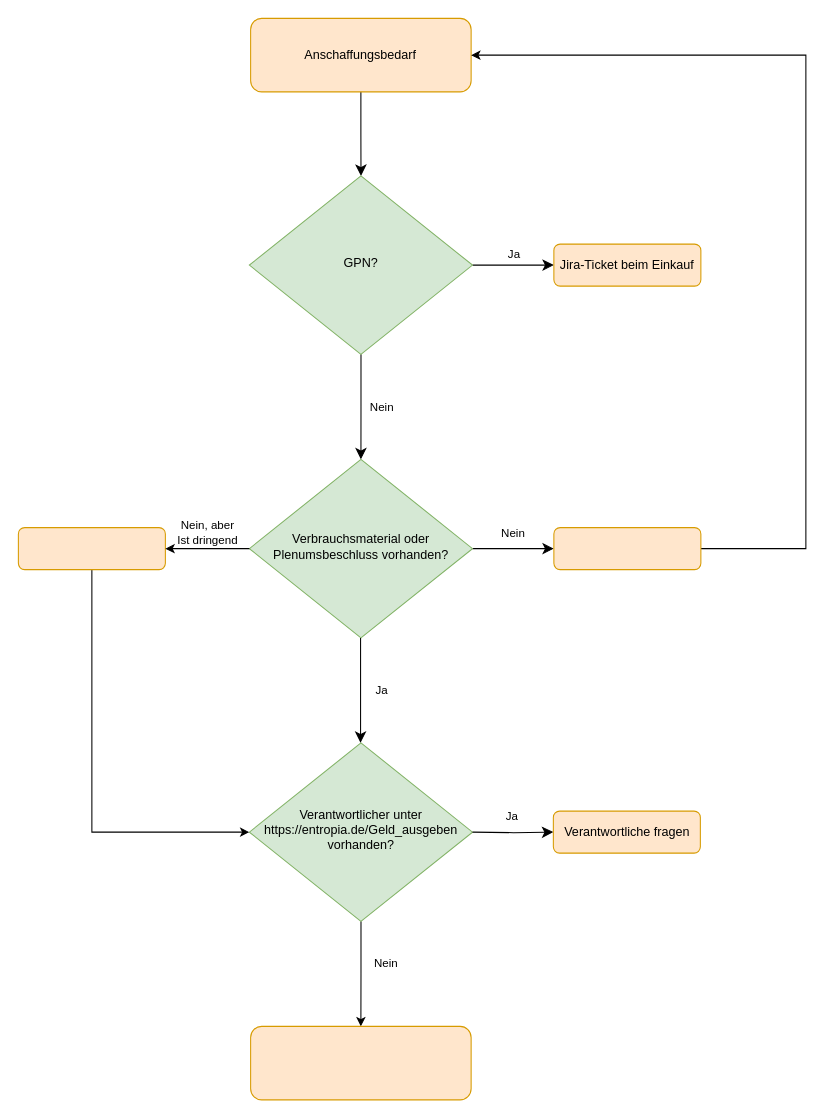
Image size: 833x1118. Some labels were removed from this diagram. Each missing label, with the centre of its shape:
Hinweise unter https://entropia.de/Geld_ausgeben beachten und kaufen: the point at 360,1062
Plenum fragen: the point at 627,548
Vorstand fragen: the point at 91,548
